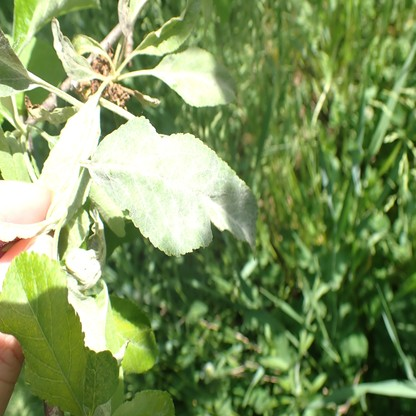powdery_mildew: (90, 116, 258, 260), (157, 47, 238, 105)
